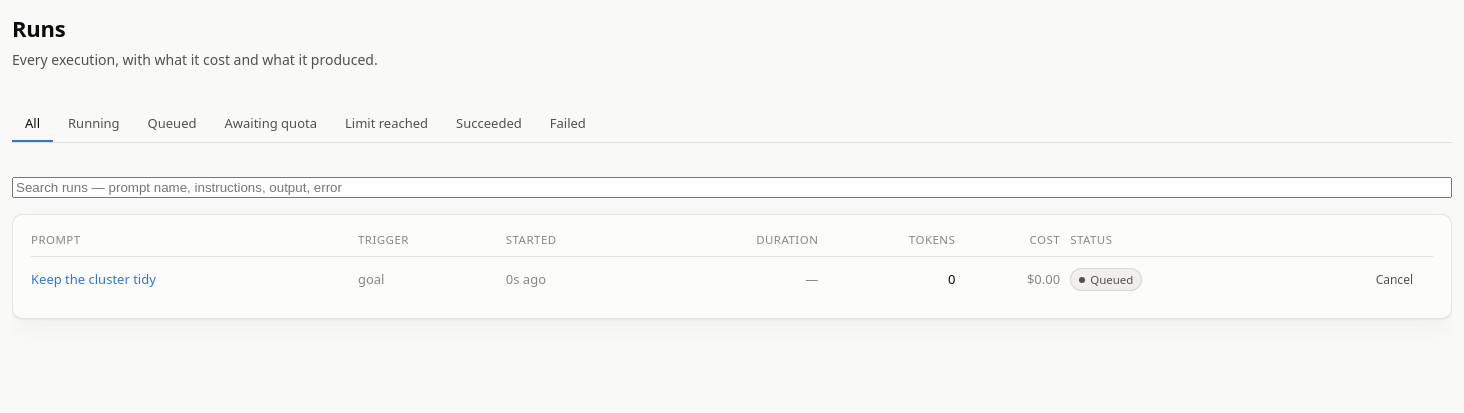
it: a failed cancel says so, instead of leaving the row unexplained
Click the button "Cancel".
click(1394, 280)  # box [1366,266,1423,293]
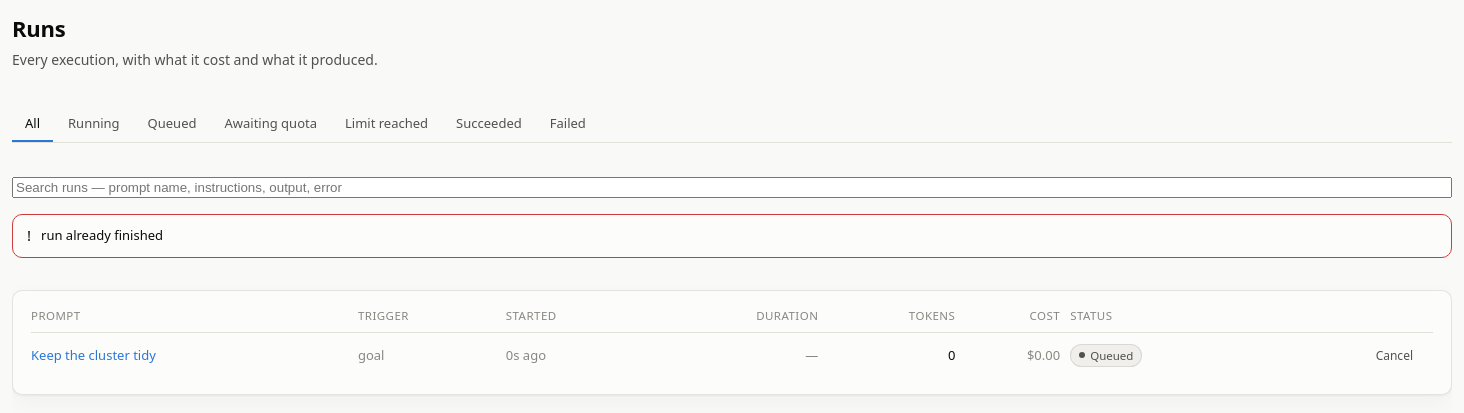
expect the text "run already finished" is shown: met, box [41,226,163,246]
